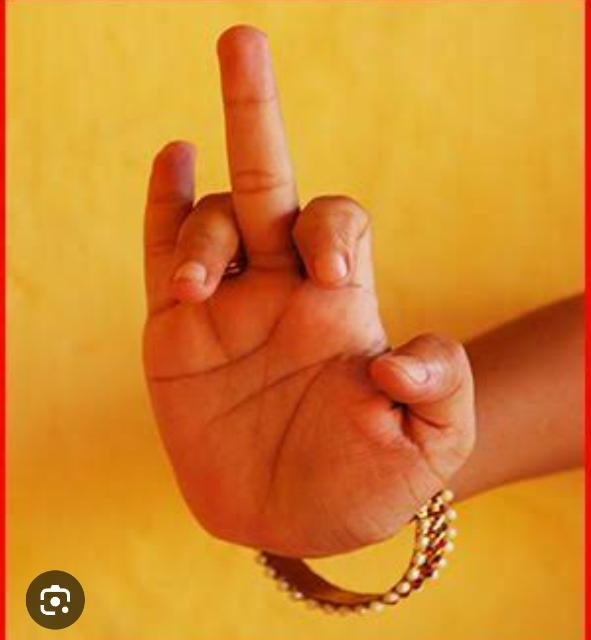shuktund: (141, 26, 479, 562)
